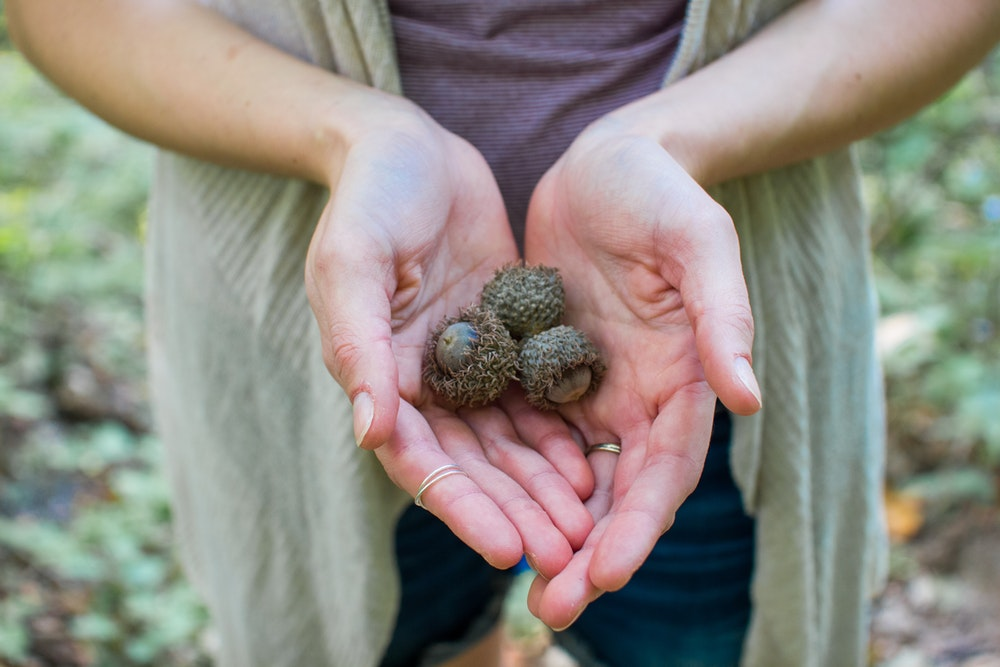palm: (549, 202, 715, 431), (365, 186, 517, 398)
